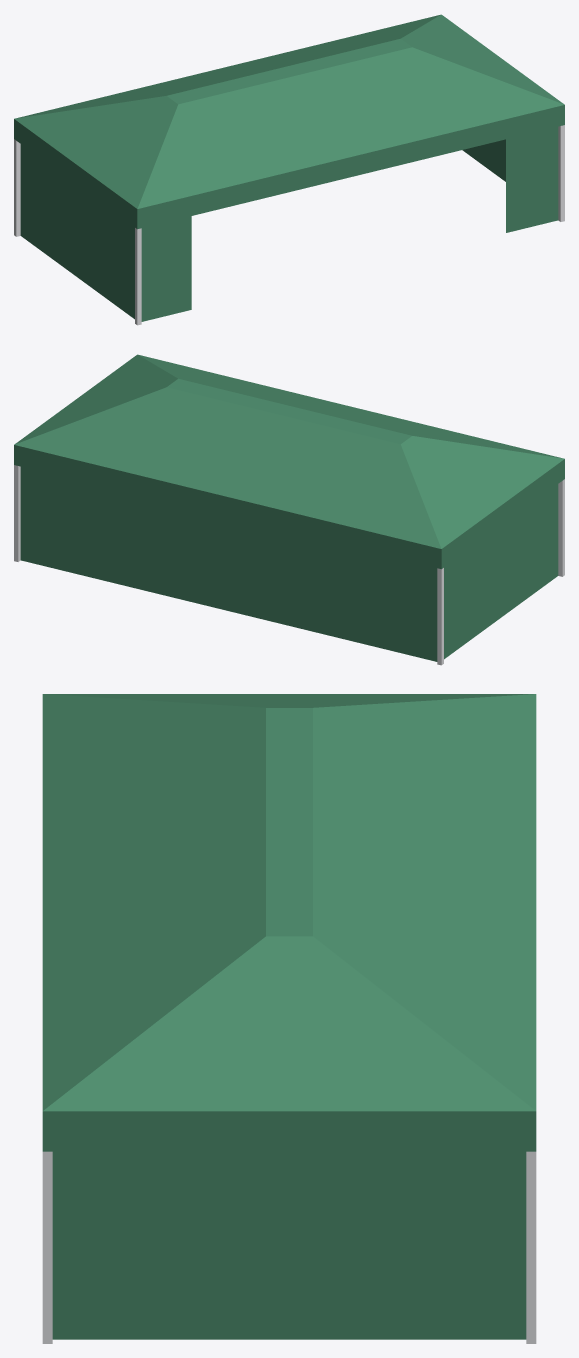
The model's file is tentClosedLong.glb.
3 views of the same model, one above another, from view 1: azimuth 30°, elevation 25°; view 2: azimuth 150°, elevation 25°; view 3: azimuth 270°, elevation 25° (orthographic). The views are drawn at different scales.
Parts seen in each view (by area): view 1: tentClosedLong(Clone); view 2: tentClosedLong(Clone); view 3: tentClosedLong(Clone).
Part boxes in pixels (x1,y1,x2,y2): tentClosedLong(Clone): (14,14,564,325); tentClosedLong(Clone): (14,354,564,665); tentClosedLong(Clone): (42,694,536,1343).
Bounding box in the file's own units: 2 × 0.7 × 1.
